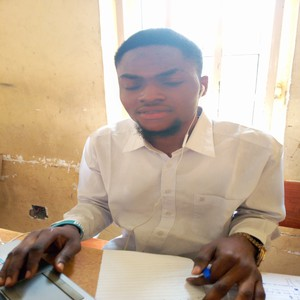Fulokoja_male_student: (112, 35, 231, 295)
